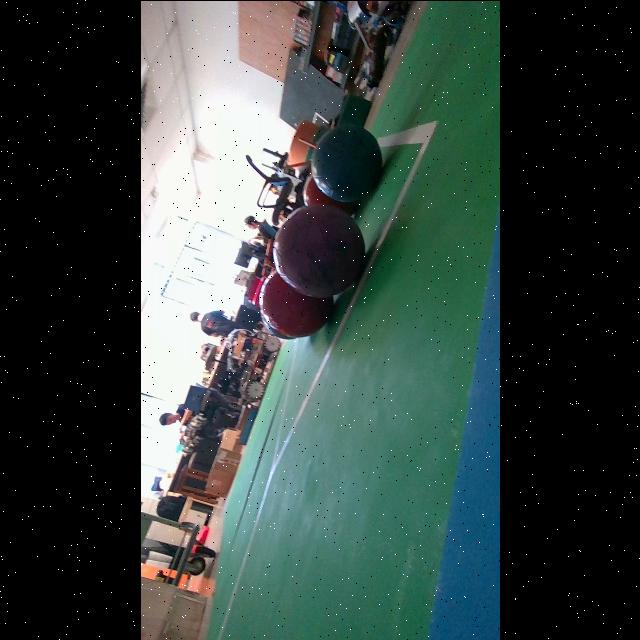B: (310, 124, 381, 201)
P: (272, 203, 364, 297)
R: (259, 272, 333, 336), (302, 174, 357, 214)
